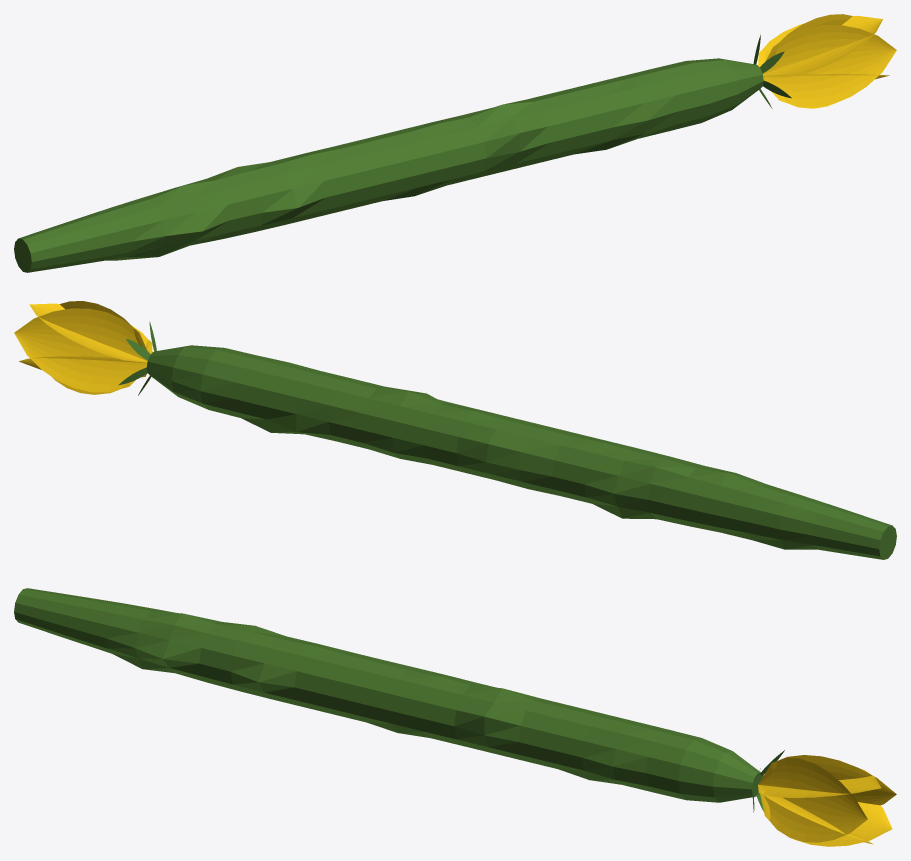
The model's file is flower_closed_00.obj.
The picture shows the model from 3 angles, top to bottom: view 1: azimuth 30°, elevation 25°; view 2: azimuth 150°, elevation 25°; view 3: azimuth 330°, elevation 25°; orthographic projection.
Bounding box in the file's own units: 0.8361 × 0.0748 × 0.0768.
1 material, 1 textured.
